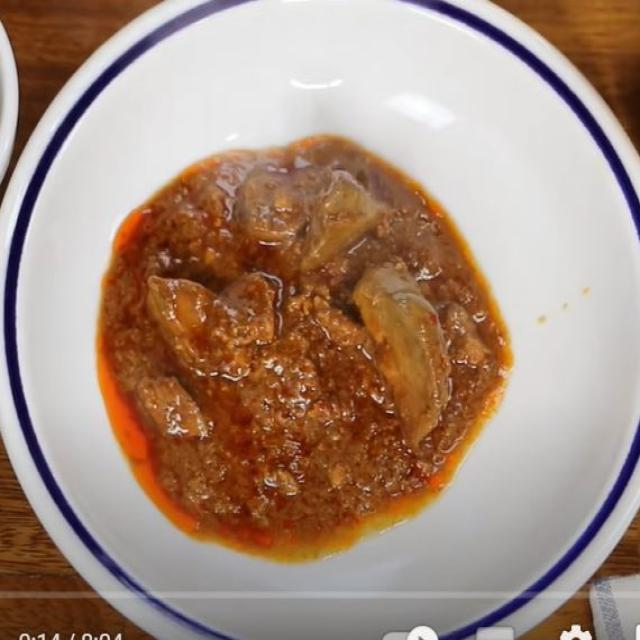kamouniya: (93, 63, 572, 553)
